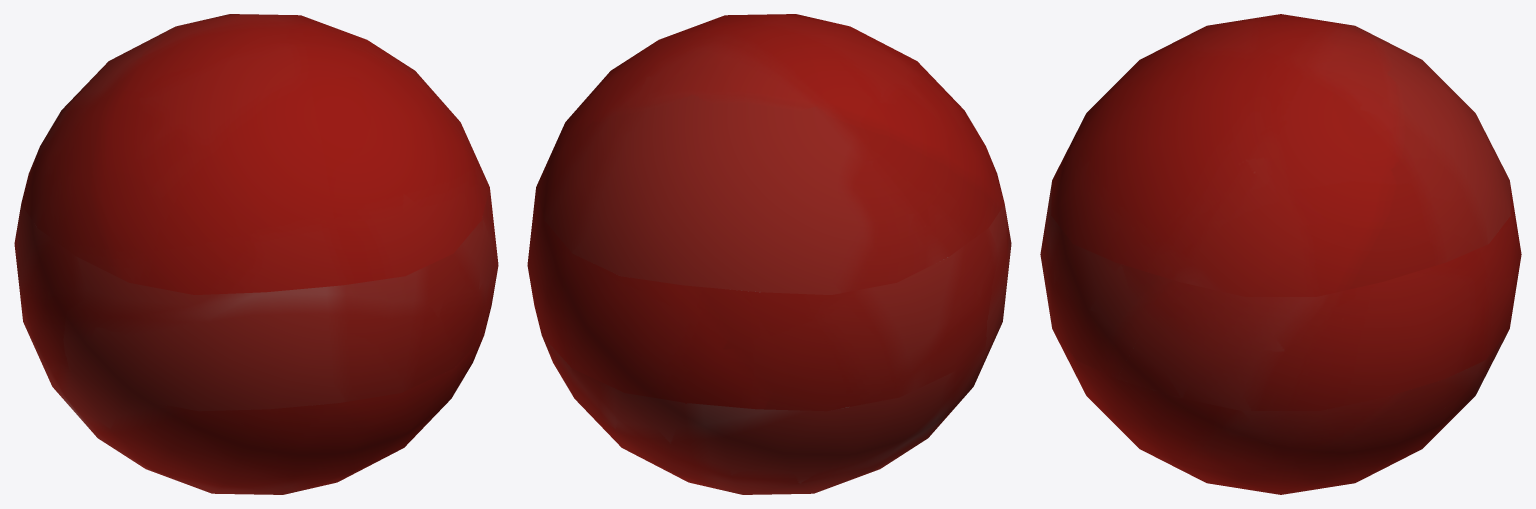
Rendered from esfera-bloco-planeta2.obj.
3 renders of one model, left to right at view 1: azimuth 30°, elevation 25°; view 2: azimuth 150°, elevation 25°; view 3: azimuth 270°, elevation 25°, orthographic.
Visible parts, largest first — view 1: Icosphere.003_Icosphere.004; view 2: Icosphere.003_Icosphere.004; view 3: Icosphere.003_Icosphere.004.
Part boxes in pixels (x1,y1,x2,y2): Icosphere.003_Icosphere.004: (14, 14, 498, 494); Icosphere.003_Icosphere.004: (527, 14, 1011, 494); Icosphere.003_Icosphere.004: (1040, 14, 1521, 494).
Bounding box in the file's own units: 1.51 × 1.51 × 1.51.
